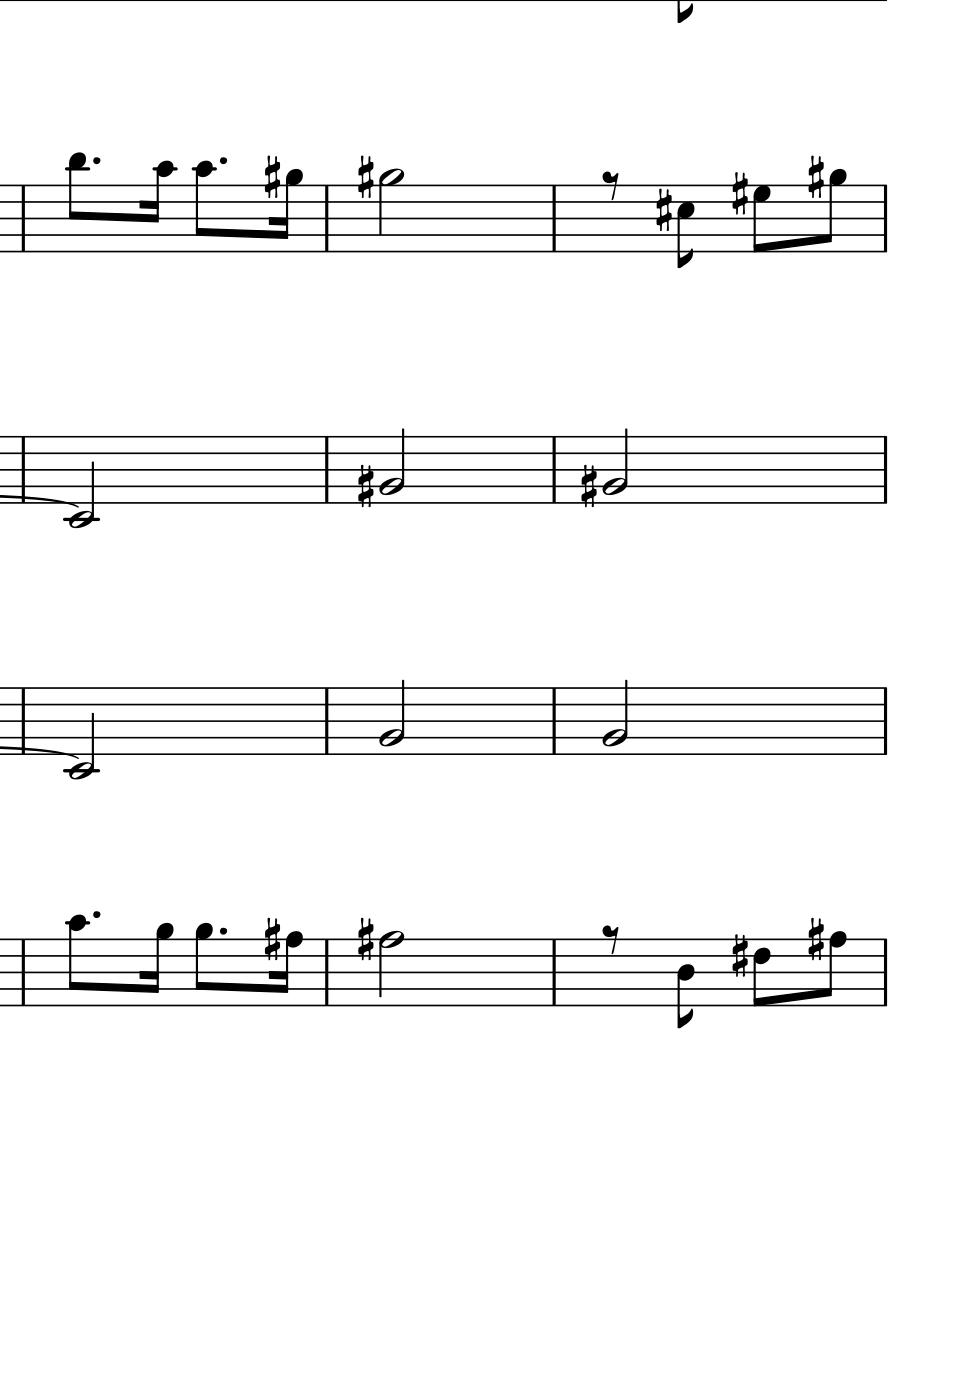16_10: (141, 158, 176, 255)
16_8: (270, 931, 303, 1007)
16_9: (141, 920, 173, 1007), (272, 166, 302, 255)
2_-2: (63, 433, 99, 532), (64, 683, 99, 783)
2_2: (377, 678, 407, 756), (599, 678, 630, 756), (378, 426, 407, 505), (601, 426, 629, 504)
2_8: (377, 928, 404, 1008)
2_9: (377, 166, 404, 253)
8_10: (191, 159, 216, 255), (65, 913, 88, 1008)
8_11: (66, 150, 89, 255)
8_4: (675, 936, 697, 1031)
8_5: (675, 183, 698, 269)
8_6: (750, 937, 774, 1008)
8_7: (750, 183, 773, 255)
8_8: (821, 930, 848, 1008)
8_9: (820, 168, 848, 253), (192, 922, 215, 1008)
Rests8: (600, 922, 623, 957), (599, 168, 622, 201)
Sharp: (729, 169, 750, 218), (652, 187, 673, 235), (354, 462, 375, 509), (261, 153, 281, 200), (805, 154, 825, 200), (729, 932, 749, 979), (355, 153, 374, 201), (578, 462, 597, 509), (262, 915, 281, 961), (355, 916, 374, 962), (805, 916, 824, 962)
Single_barline: (14, 436, 31, 504), (14, 185, 31, 251), (14, 688, 31, 755), (876, 688, 893, 755), (318, 437, 335, 503), (14, 940, 31, 1005), (877, 185, 893, 252), (877, 436, 893, 504), (877, 938, 893, 1006), (318, 186, 334, 251), (546, 437, 562, 503), (318, 940, 334, 1004), (546, 185, 561, 251), (546, 938, 561, 1005), (546, 688, 561, 754), (319, 689, 334, 754)
dot: (89, 908, 103, 922), (90, 155, 102, 168), (217, 155, 229, 168), (217, 926, 228, 938)
